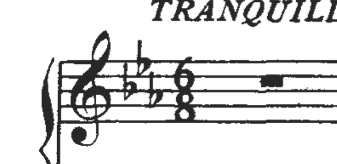flat: (115, 55, 141, 109), (131, 33, 154, 81), (146, 70, 168, 115)
treble_clef: (61, 26, 121, 151)
